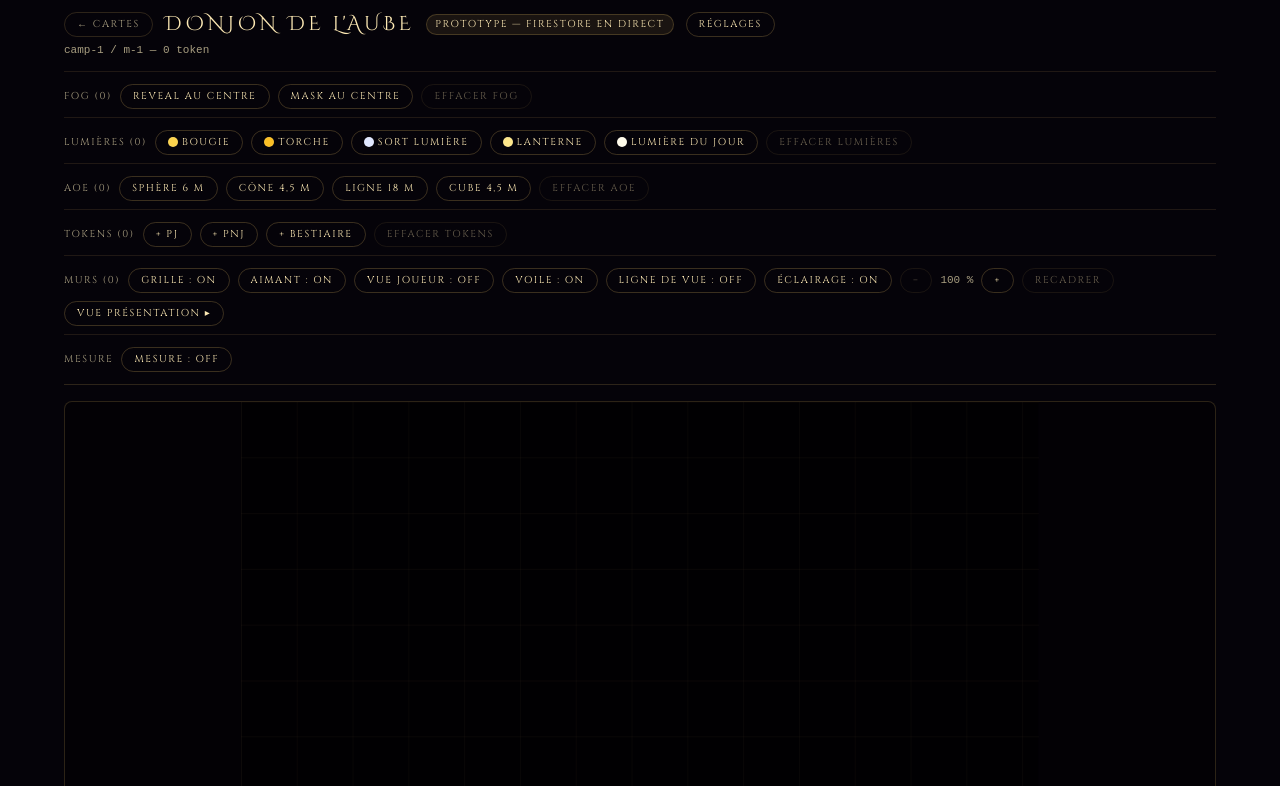
Test: MapLiveScreen › additionne plusieurs segments (chaîne de clics)
Click the button with test id "map-live-toggle-measure" at (177, 359), box [121,346,232,372]
(page scrolled)
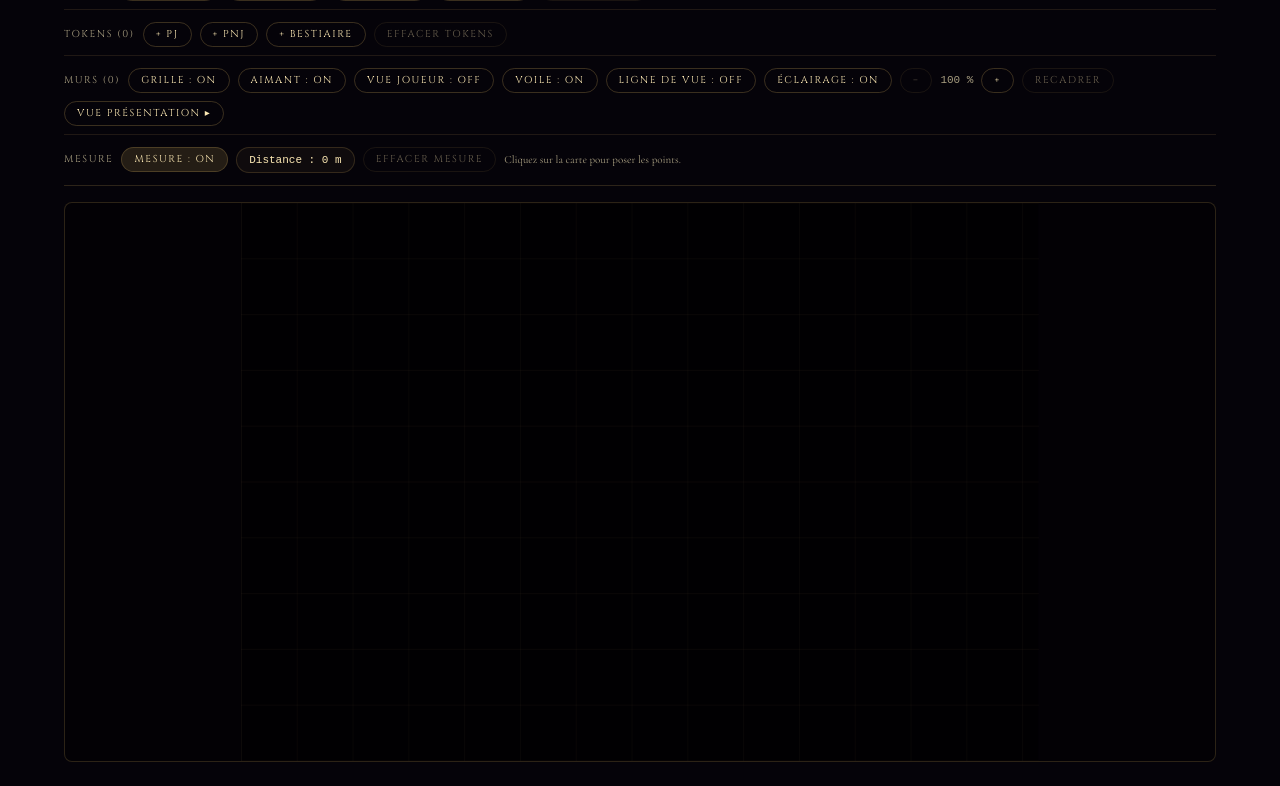
Press the mouse on the icon with test id "map-live-svg" at (640, 482), box [65,203,1215,761]
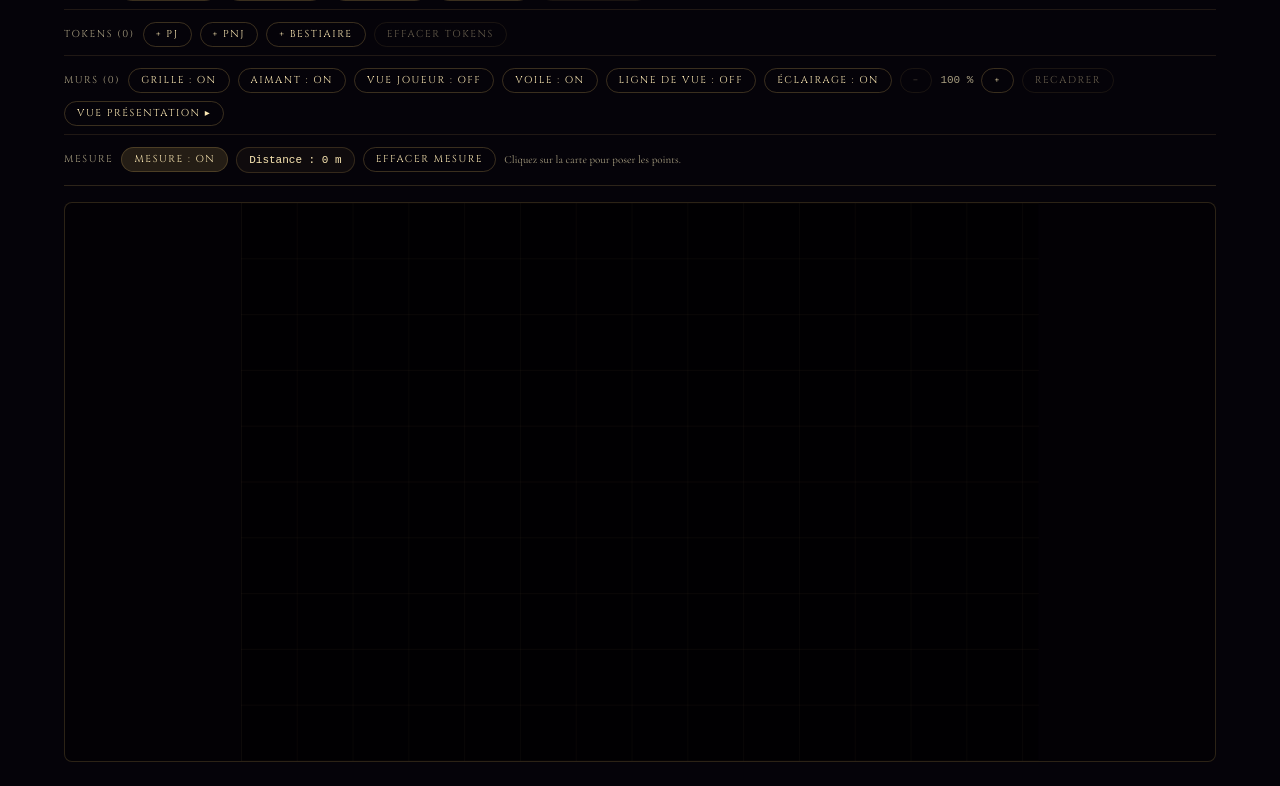
Press the mouse on the icon with test id "map-live-svg" at (640, 482), box [65,203,1215,761]
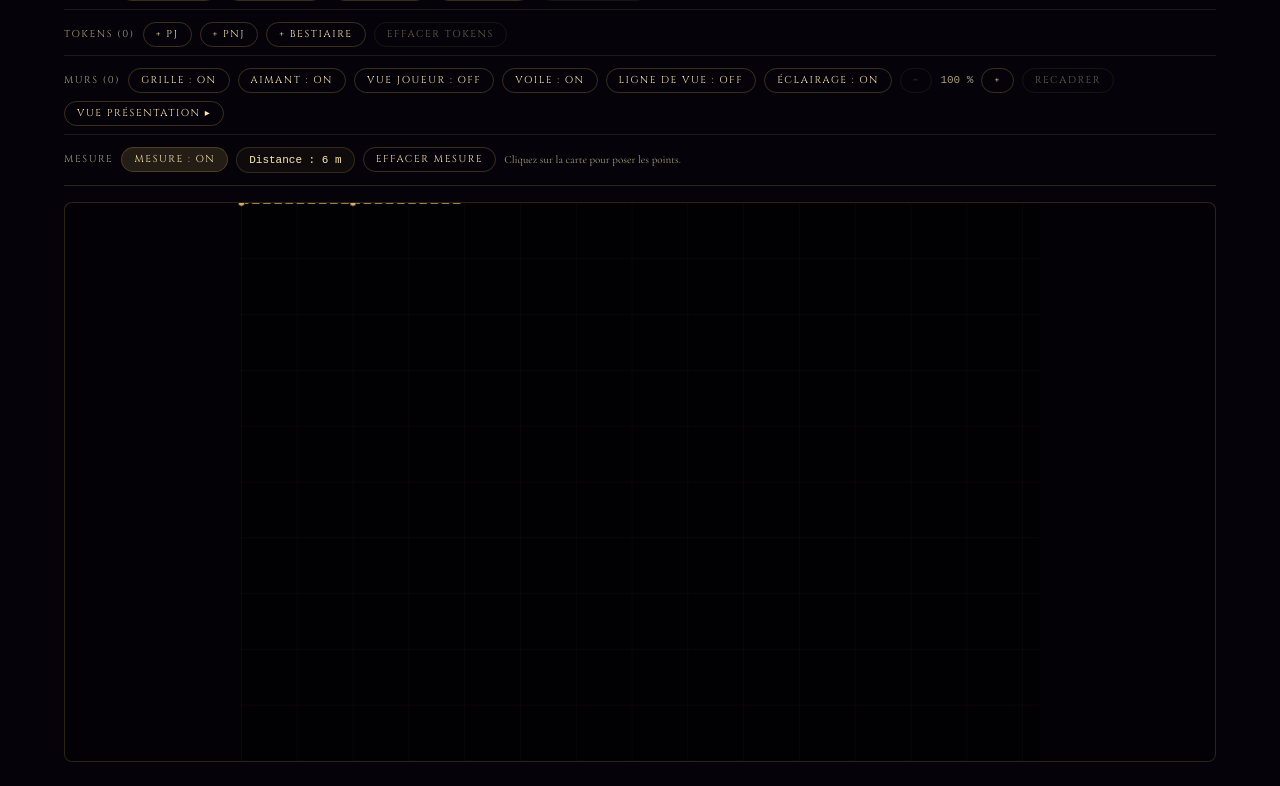
Expected: the text with test id "map-live-ruler-total" shows "6 m", [322,154,342,166]
